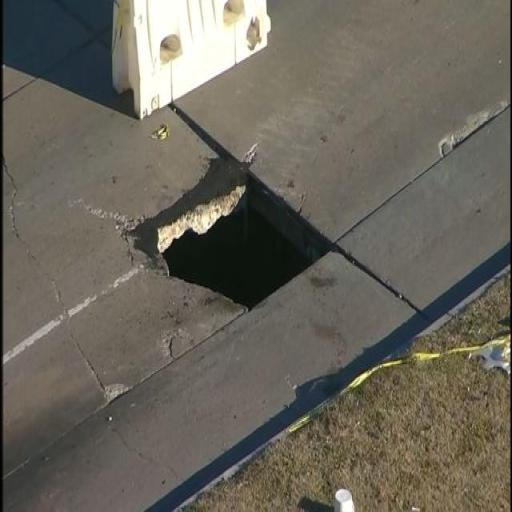Concentric_Crack: (158, 174, 327, 308)
